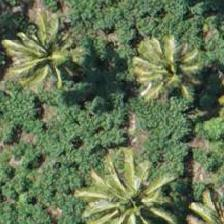coconut_tree: (0, 14, 90, 104), (118, 23, 208, 113), (80, 158, 170, 223)
